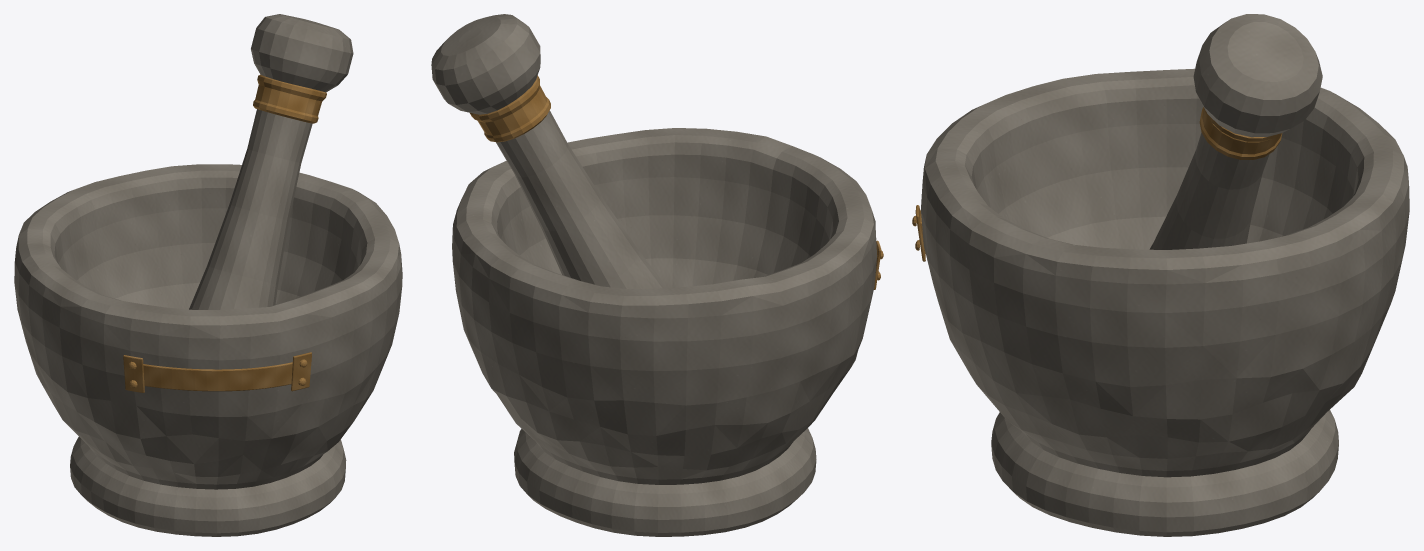
Rendered from asset.glb.
3 views of the same model, side by side, from view 1: azimuth 30°, elevation 25°; view 2: azimuth 150°, elevation 25°; view 3: azimuth 270°, elevation 25° (orthographic). The views are drawn at different scales.
Parts seen in each view (by area): view 1: mortar_body, pestle_stone, mortar_repair_band, pestle_brass_collar, mortar_repair_end_left, mortar_repair_end_right; view 2: mortar_body, pestle_stone, pestle_brass_collar; view 3: mortar_body, pestle_stone, pestle_brass_collar.
Part boxes in pixels (x1,y1,x2,y2): mortar_body: (14, 164, 402, 536); pestle_stone: (189, 14, 353, 309); mortar_repair_band: (143, 362, 292, 391); pestle_brass_collar: (253, 74, 326, 123); mortar_repair_end_left: (123, 355, 144, 392); mortar_repair_end_right: (291, 352, 311, 391); mortar_body: (452, 128, 877, 536); pestle_stone: (431, 14, 667, 288); pestle_brass_collar: (470, 75, 550, 142); mortar_body: (921, 68, 1409, 536); pestle_stone: (1149, 14, 1322, 249); pestle_brass_collar: (1199, 107, 1282, 159).
Bounding box in the file's own units: 0.2022 × 0.2366 × 0.2045.
3 materials, 3 textured.
